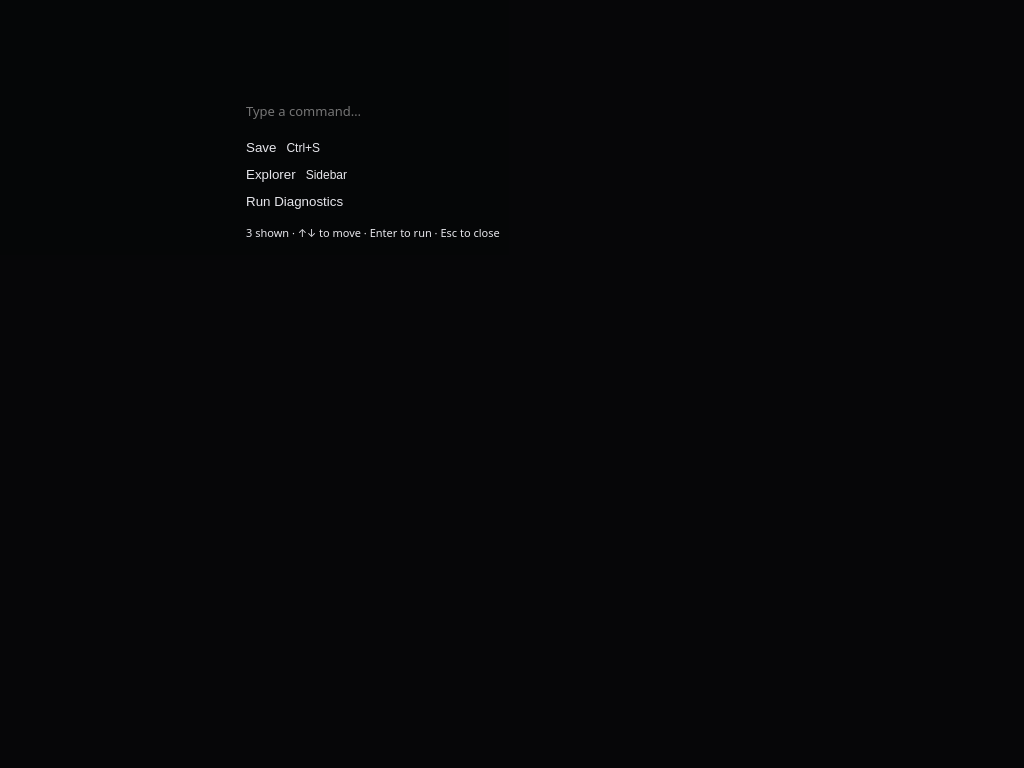
Test case: CommandPalette › lists commands and filters by query
Check: the text "Save" is shown, box [246,140,276,155]
Check: the text "Run Diagnostics" is shown, box [246,194,343,209]
Type "diag" into the field named "Command name".
click(512, 111); type("diag")  # box [232,92,792,130]
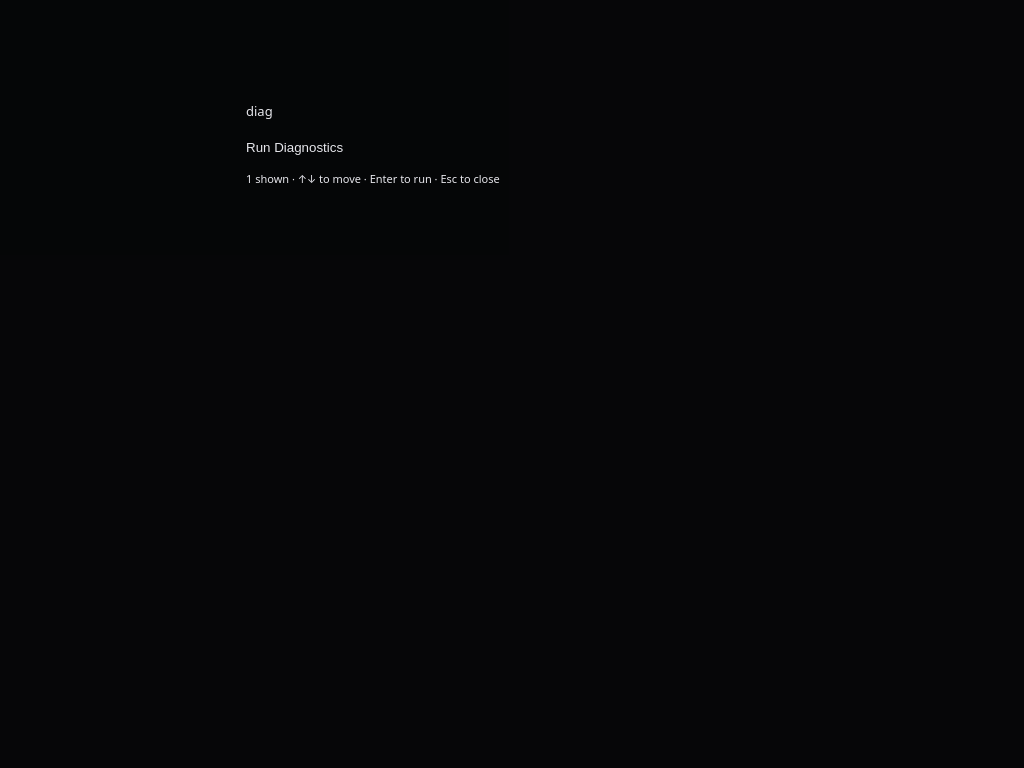
Check: the text "Run Diagnostics" is shown, box [246,140,343,155]
Check: the button "Save" is gone
